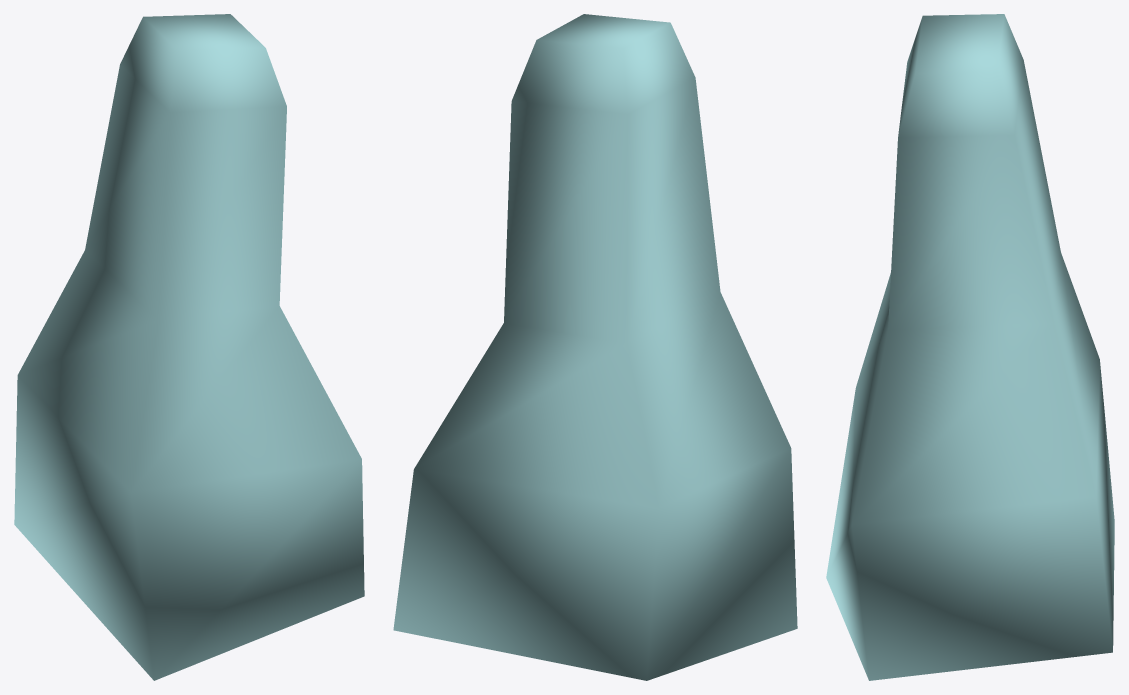
The model's file is Skelly_f_ring.03.L.fbx.
3 views of the same model, side by side, from view 1: azimuth 30°, elevation 25°; view 2: azimuth 150°, elevation 25°; view 3: azimuth 270°, elevation 25° (orthographic). The views are drawn at different scales.
Visible parts, largest first — view 1: Skelly_f_ring.03.L; view 2: Skelly_f_ring.03.L; view 3: Skelly_f_ring.03.L.
Part boxes in pixels (x1=…): Skelly_f_ring.03.L: x1=14, y1=14, x2=364, y2=680; Skelly_f_ring.03.L: x1=393, y1=14, x2=797, y2=680; Skelly_f_ring.03.L: x1=826, y1=14, x2=1114, y2=680.
Bounding box in the file's own units: 1.14 × 2.6 × 1.13.
